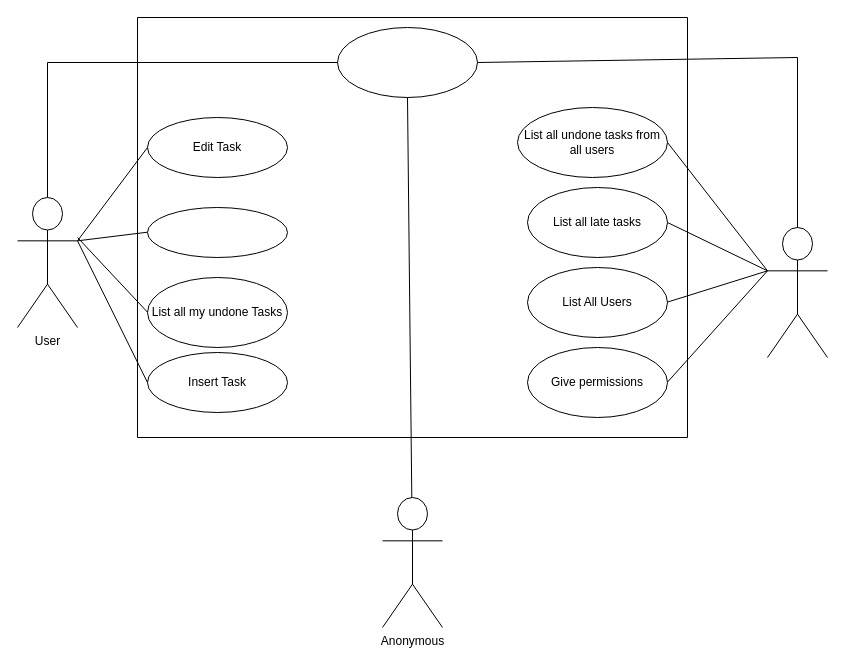
This 845x666 diagram has some shape labels left out. Each missing label, with the centre of its shape:
"Admin" goes at point 797,292.
"Delete Tasks" goes at point 217,232.
"Login" goes at point 407,62.
